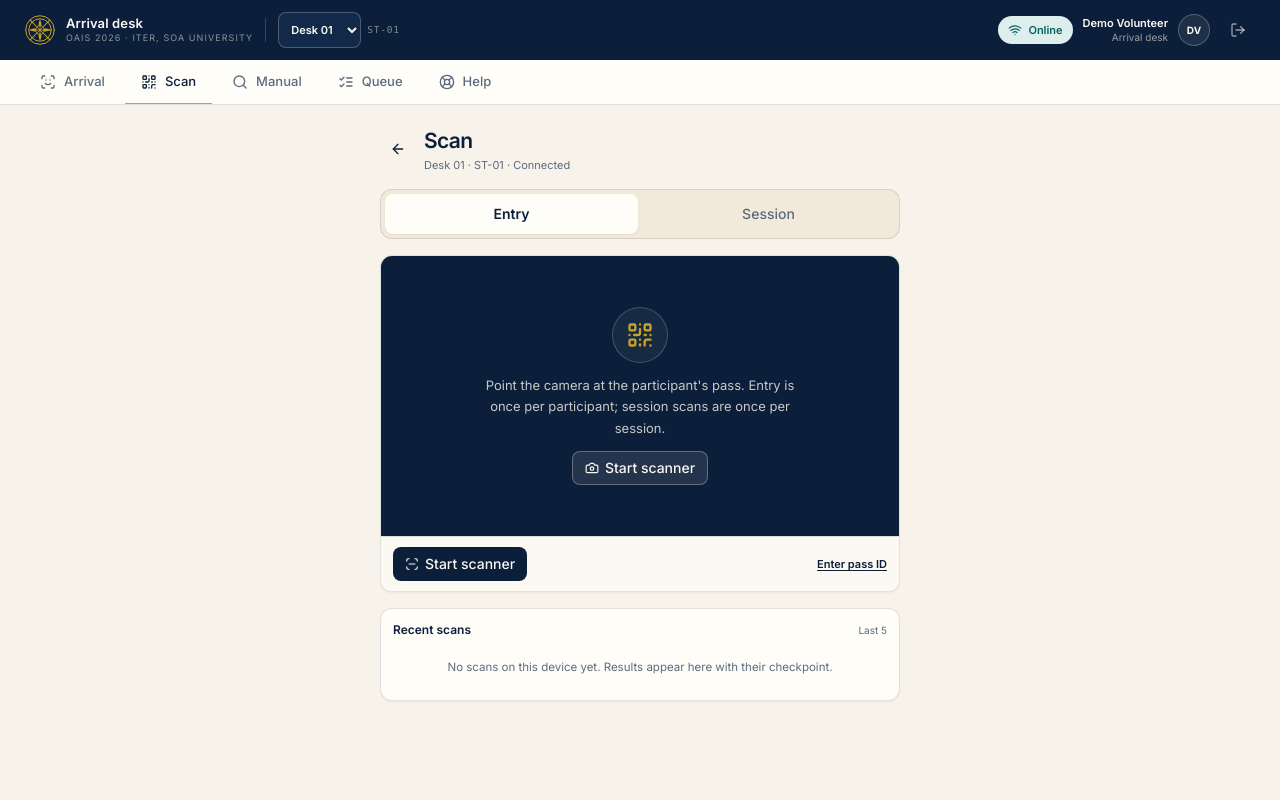
QR scanner (§7.6) › does not fall back to the legacy unsigned endpoint when verify is not live
Click the 1st button "Start scanner".
click(640, 468)  # box [572,451,708,485]
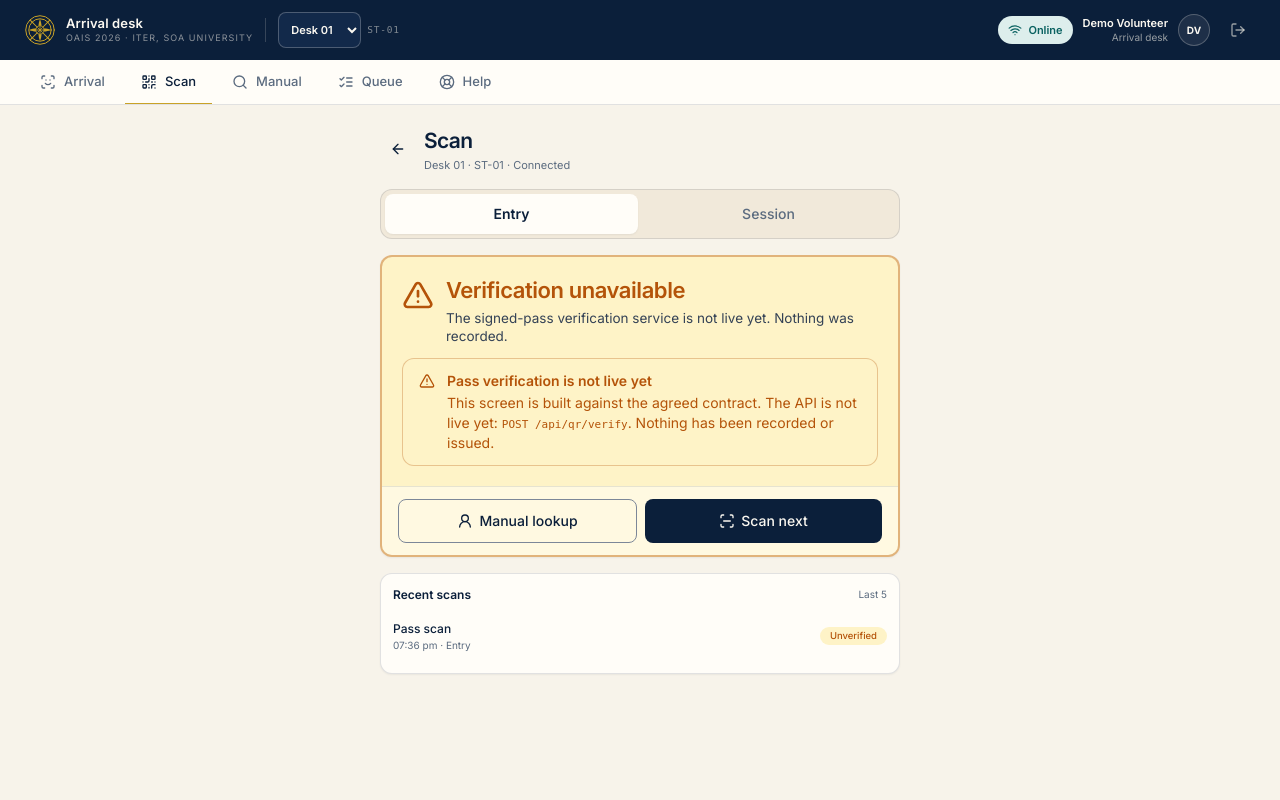
Expected: the text "Verification unavailable" is shown, [446,277,685,303]
Expected: the text "not live yet" is shown, [446,310,854,344]
